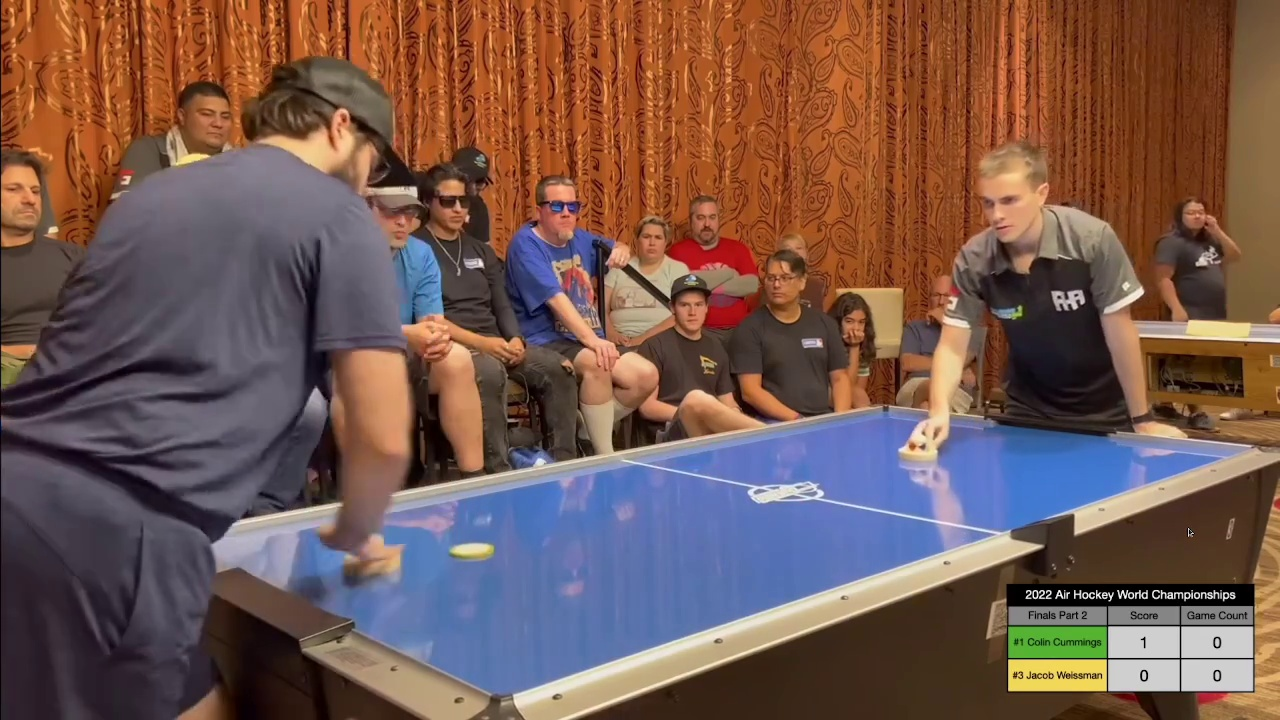player: (340, 534, 407, 576), (895, 430, 939, 464)
puck: (445, 543, 495, 562)
table: (169, 404, 1280, 707)
